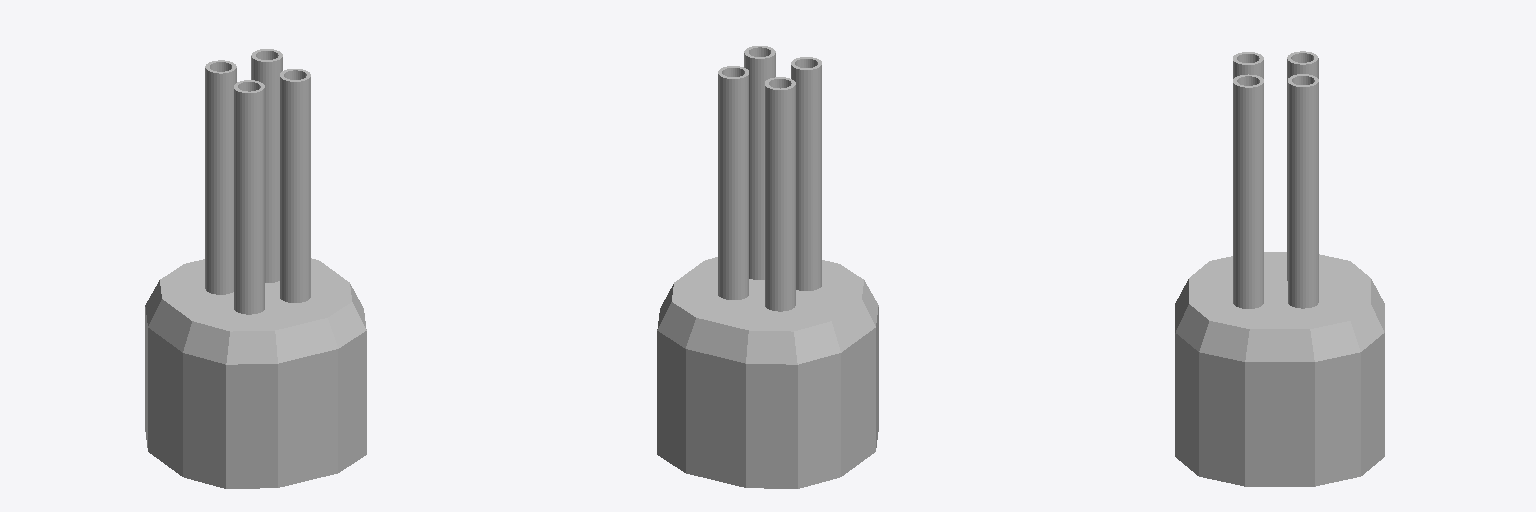
The model's file is gun.obj.
3 views of the same model, side by side, from view 1: azimuth 30°, elevation 25°; view 2: azimuth 150°, elevation 25°; view 3: azimuth 270°, elevation 25° (orthographic).
Parts seen in each view (by area): view 1: Cube; view 2: Cube; view 3: Cube.
Boxes of the visible parts, <box> form: Cube: <box>145,49,366,488</box>; Cube: <box>657,46,878,488</box>; Cube: <box>1175,51,1384,486</box>.
Bounding box in the file's own units: 1 × 1.97 × 1.